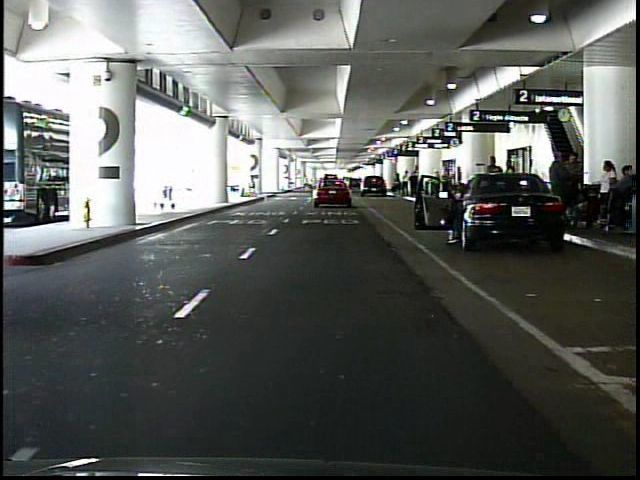person: (545, 149, 573, 226), (616, 164, 636, 232), (596, 160, 617, 218), (484, 156, 504, 216), (504, 157, 520, 214), (402, 169, 412, 199), (410, 172, 419, 199), (395, 175, 403, 196), (303, 175, 312, 191), (574, 149, 575, 228)
